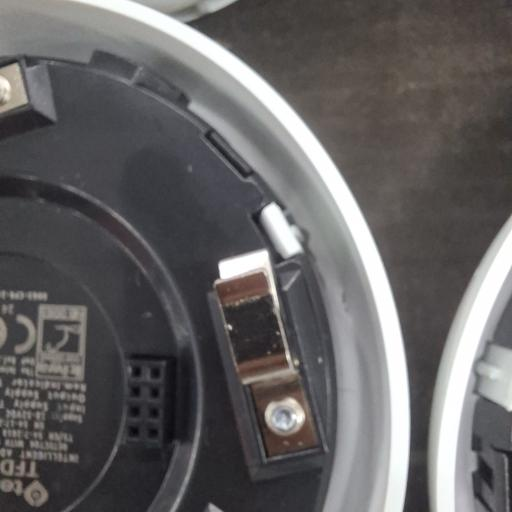yayli: (210, 250, 324, 466)
